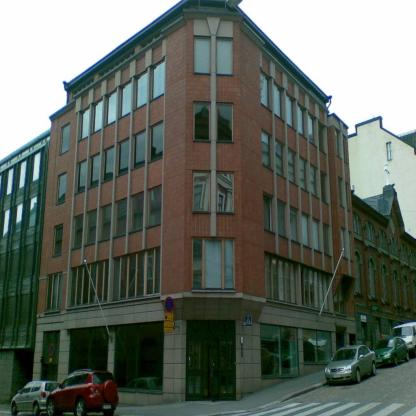Car: (48, 369, 121, 416), (326, 344, 378, 384), (11, 380, 61, 415), (376, 336, 412, 369), (393, 324, 416, 360)
